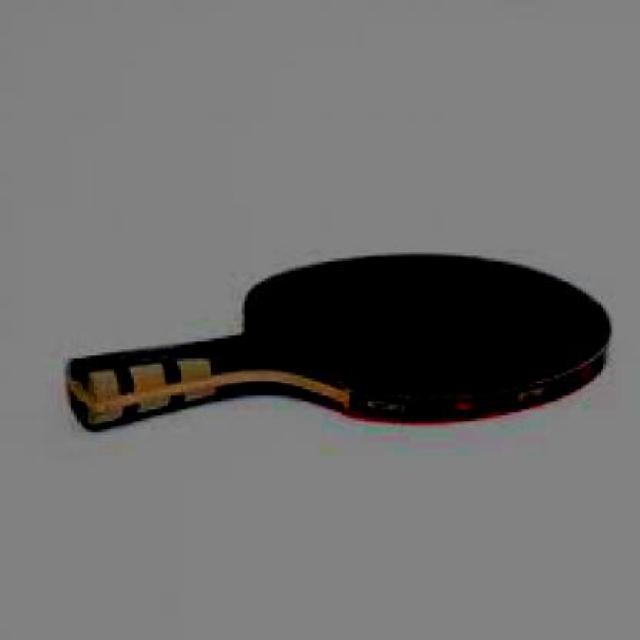table_tennis_racket: (65, 255, 614, 434)
